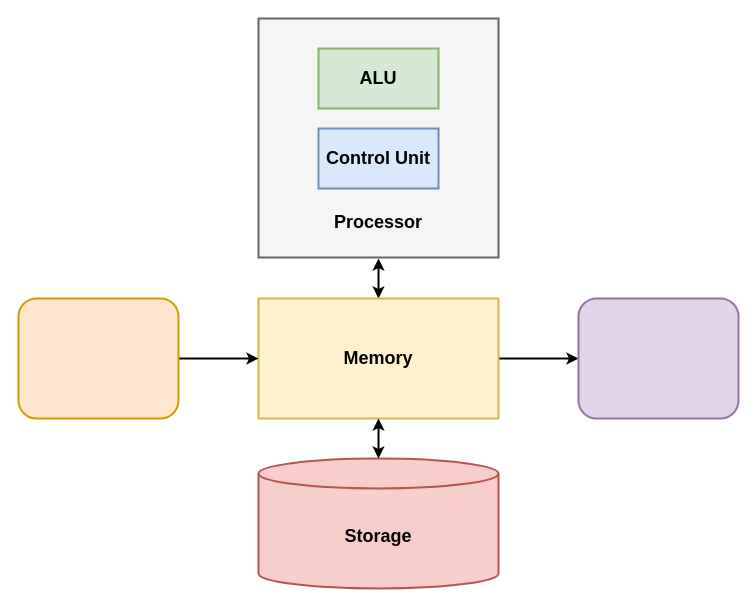
Some shapes in this 756 by 606 pixel diagram are drawn without their labels. The shapes that lost their labels are listed below. From the top down, each one's centre as x and y in pixels, then its label:
At point (98, 358): "Input".
At point (658, 358): "Output".
